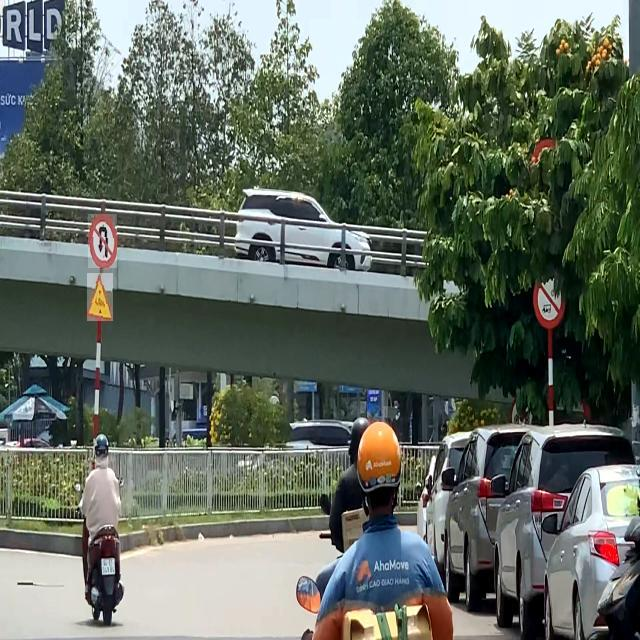P-124a: (88, 214, 117, 268)
S-509a: (88, 273, 114, 321)
